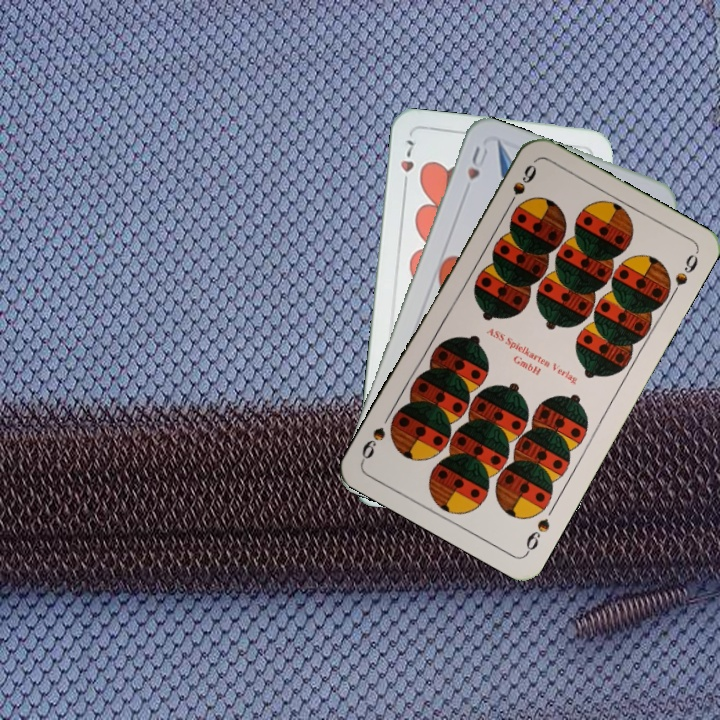H7: (396, 135, 419, 192)
HU: (463, 141, 490, 183)
S9: (502, 160, 540, 213), (521, 514, 553, 557)
